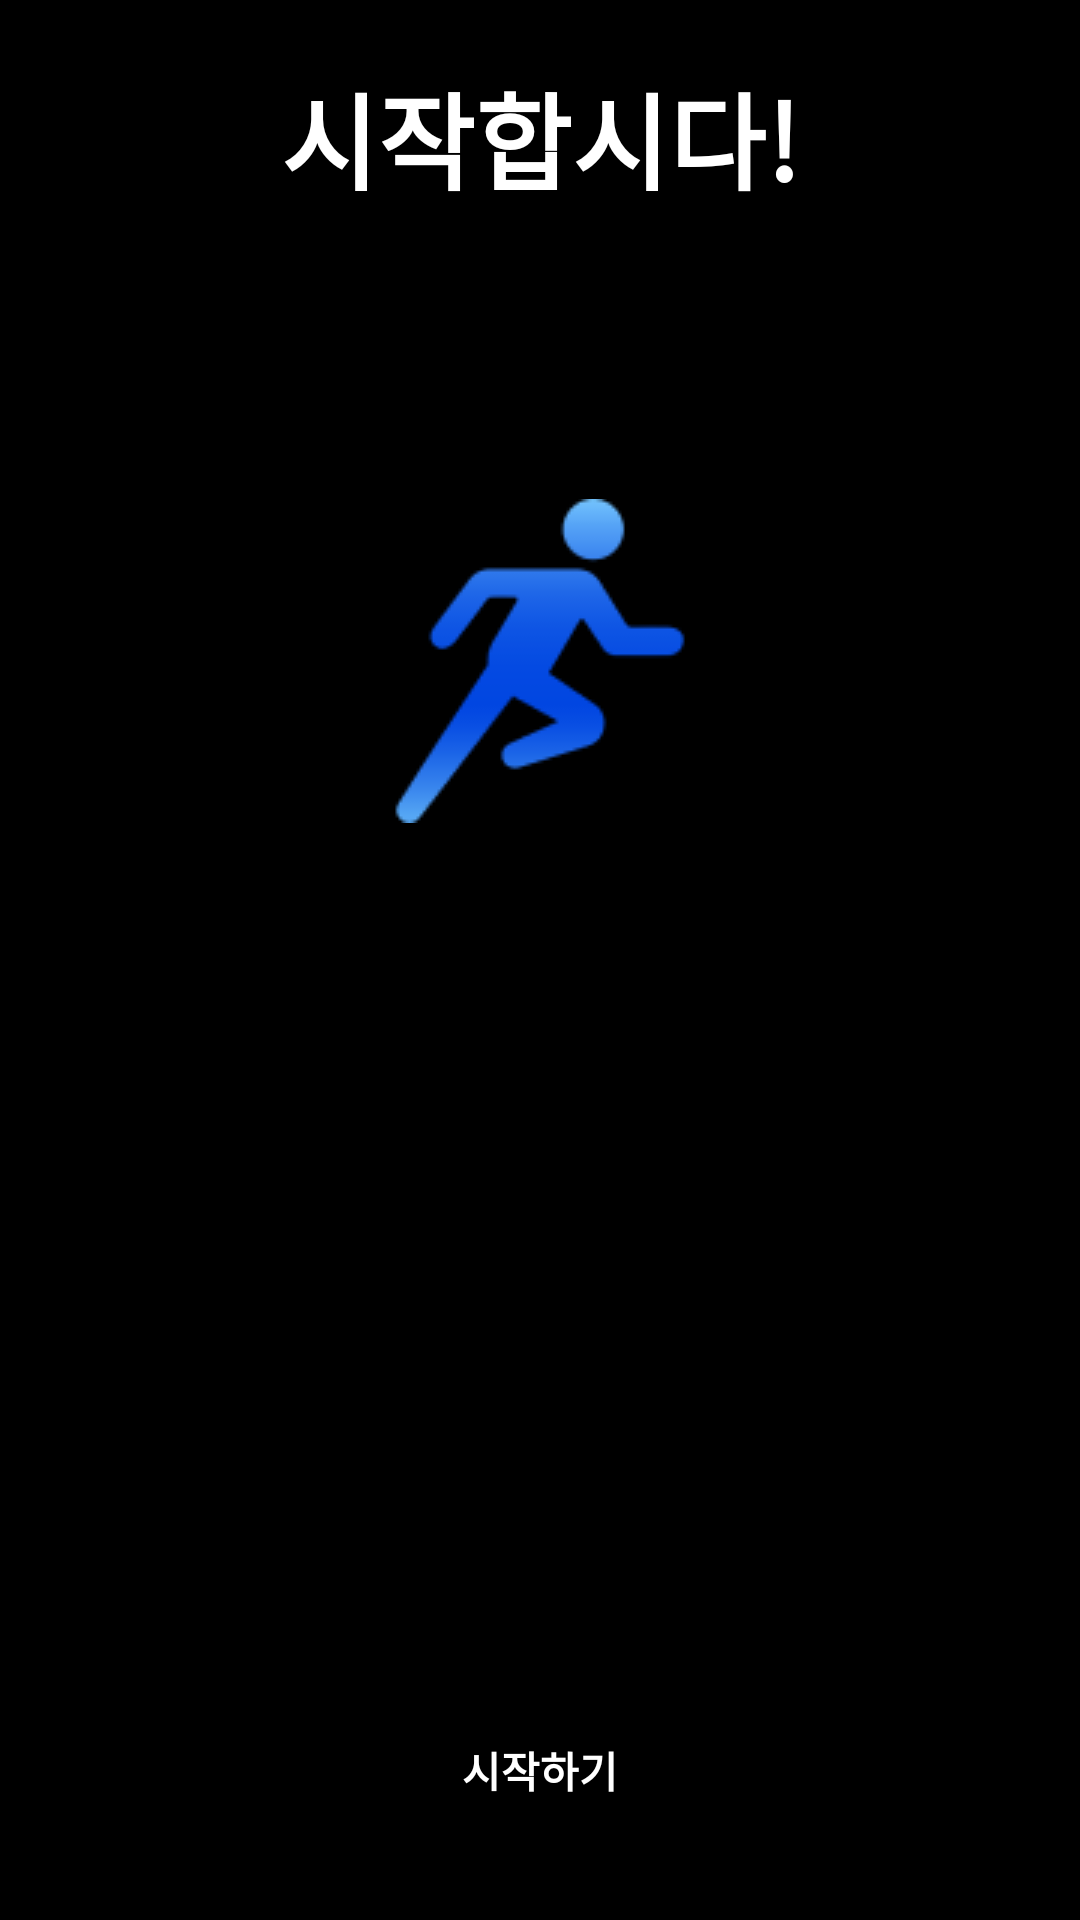

Icon bounding boxes for this 1080 x 1920 phone screenshot, format (x1,y1,x2,y2):
This is an Running Man icon: (395,499,685,823)
